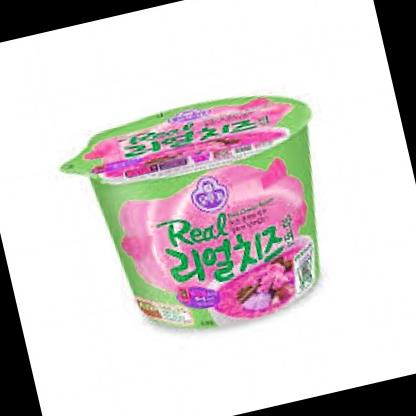Ramen: (48, 56, 370, 370)
